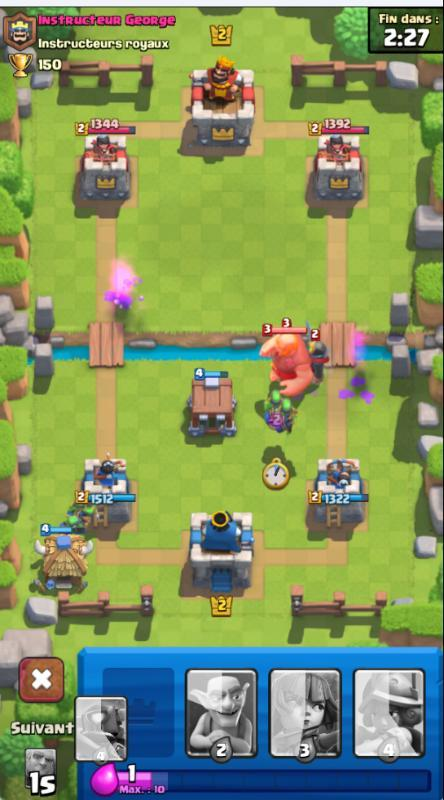enemy_giant: (255, 324, 320, 401)
enemy_knight: (304, 331, 332, 371)
player_goblin_cage: (180, 364, 241, 444)
player_goblin_hut: (29, 528, 97, 596)
player_spear_goblins: (259, 386, 298, 436), (63, 504, 89, 531)
